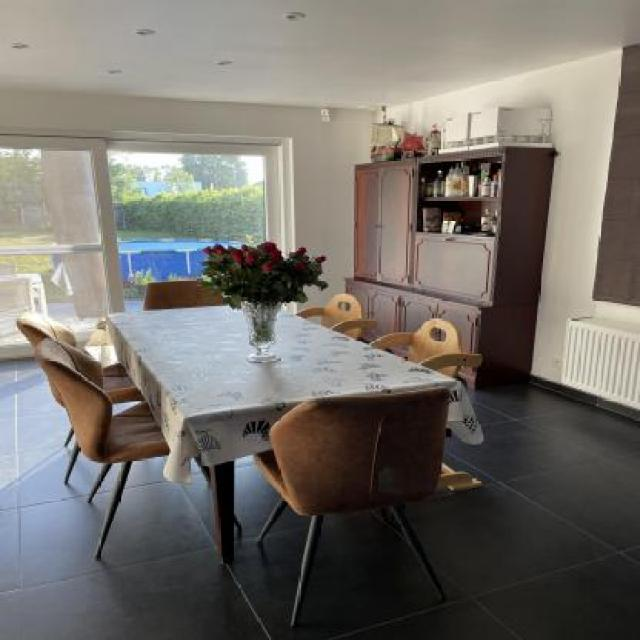Floor: (0, 356, 640, 640), (113, 401, 139, 416)
